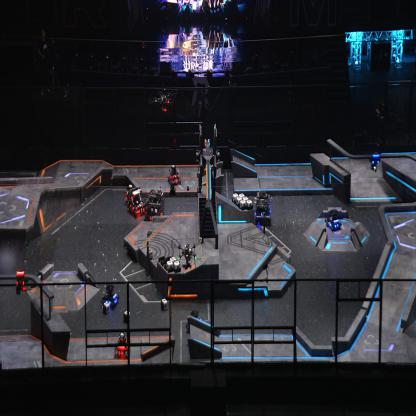car: (145, 188, 165, 223), (127, 185, 146, 217), (253, 191, 271, 224), (101, 282, 120, 310), (113, 333, 130, 360), (324, 209, 342, 233), (167, 163, 182, 186), (124, 184, 136, 205)
